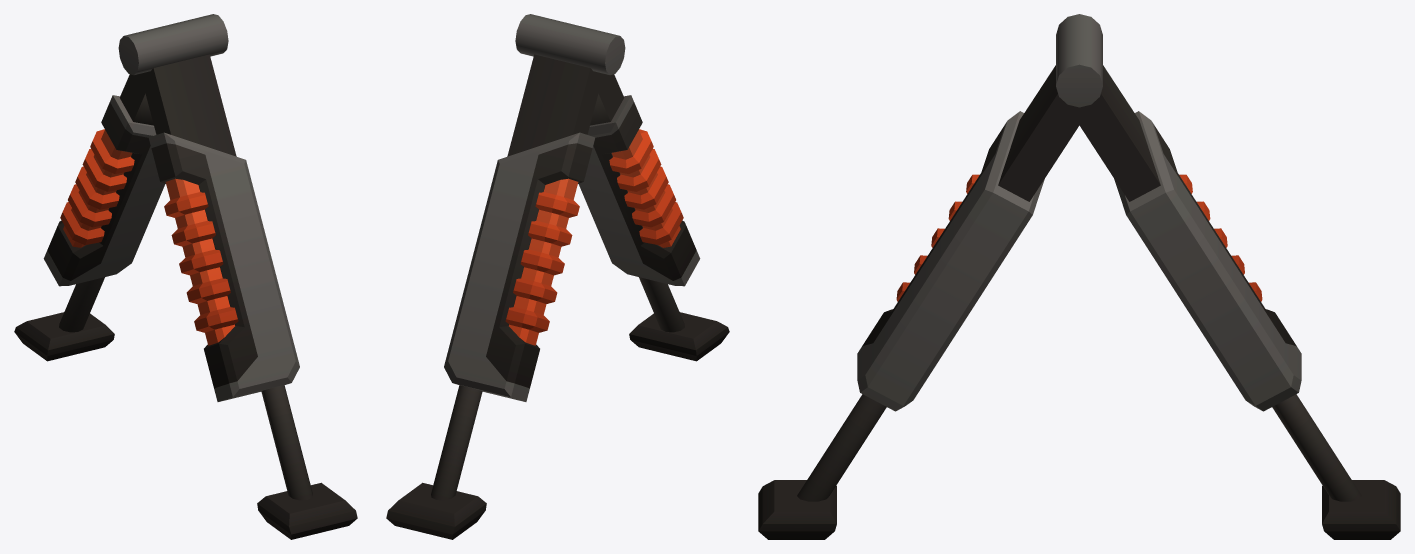
The model's file is MG3_Bipod.fbx.
The picture shows the model from 3 angles, left to right: view 1: azimuth 30°, elevation 25°; view 2: azimuth 150°, elevation 25°; view 3: azimuth 270°, elevation 25°; orthographic projection. The views are drawn at different scales.
Visible parts, largest first — view 1: MG3_Bipod; view 2: MG3_Bipod; view 3: MG3_Bipod.
Part boxes in pixels (<box>): MG3_Bipod: <box>14,14,357,539</box>; MG3_Bipod: <box>386,14,729,539</box>; MG3_Bipod: <box>758,14,1400,539</box>.
Size of the model in its own units: 6.13 by 26.6 by 32.45.
